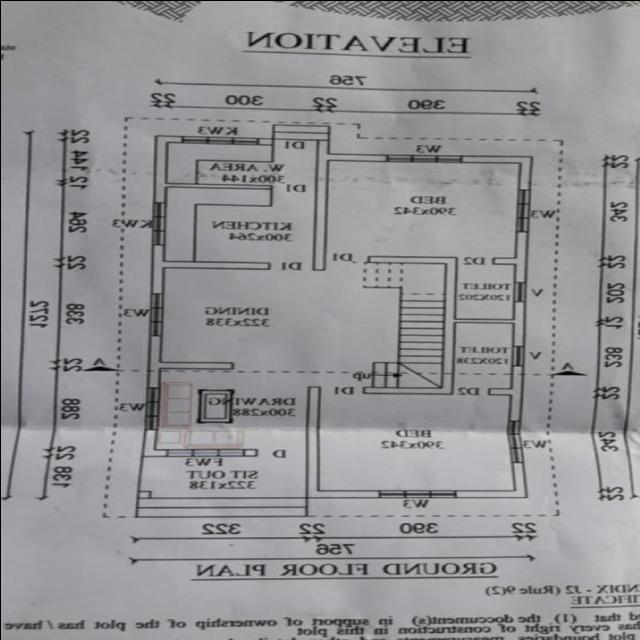column: (146, 131, 172, 147)
